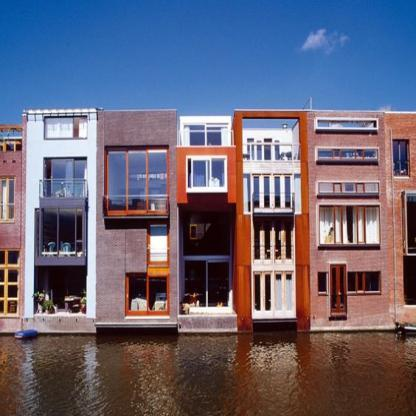Balcony: (102, 196, 169, 215), (243, 143, 301, 163), (39, 179, 87, 197), (252, 193, 294, 213), (253, 246, 294, 263), (329, 295, 347, 317), (147, 253, 169, 268), (0, 204, 14, 221)
Building Outline: (0, 107, 416, 333), (178, 131, 234, 146)
Door: (147, 222, 169, 268), (247, 138, 280, 165), (330, 265, 347, 317)
Facade: (0, 81, 416, 334)
Floor Slab: (26, 147, 97, 152), (25, 259, 96, 264), (26, 198, 97, 203), (94, 324, 177, 327), (96, 216, 178, 219), (96, 267, 178, 270), (237, 214, 309, 217), (237, 319, 309, 322), (237, 264, 309, 267), (237, 163, 308, 166), (177, 146, 236, 149), (177, 201, 236, 204), (182, 256, 233, 259)
Glass Wall: (105, 147, 170, 216), (183, 259, 229, 308), (183, 212, 231, 256), (42, 208, 84, 257), (253, 218, 294, 264), (253, 271, 294, 314), (44, 158, 87, 197), (251, 174, 293, 213), (49, 267, 83, 311), (0, 249, 21, 317), (184, 125, 229, 151)
Window: (35, 266, 87, 316), (242, 118, 299, 161), (320, 206, 379, 244), (125, 272, 170, 316), (188, 158, 225, 188), (44, 117, 88, 139), (0, 176, 15, 222), (318, 149, 378, 160), (347, 273, 380, 292), (406, 194, 416, 254), (320, 183, 379, 193), (318, 120, 377, 128), (394, 141, 407, 176), (243, 174, 250, 212), (294, 174, 301, 211), (318, 271, 327, 294), (37, 211, 39, 258)
